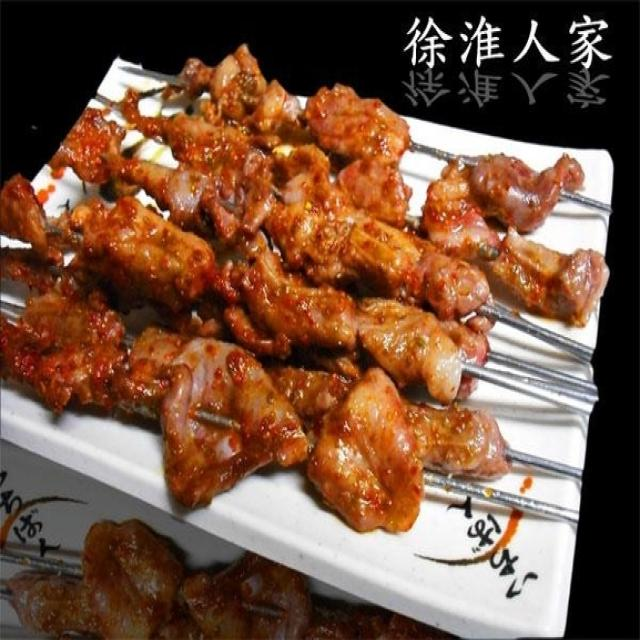烧串烤肉: (31, 26, 606, 615)
